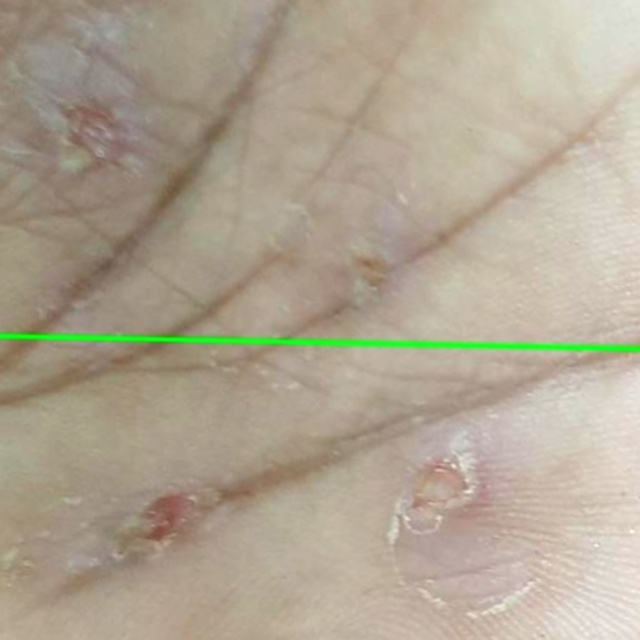Scabies: (0, 337, 639, 639)
